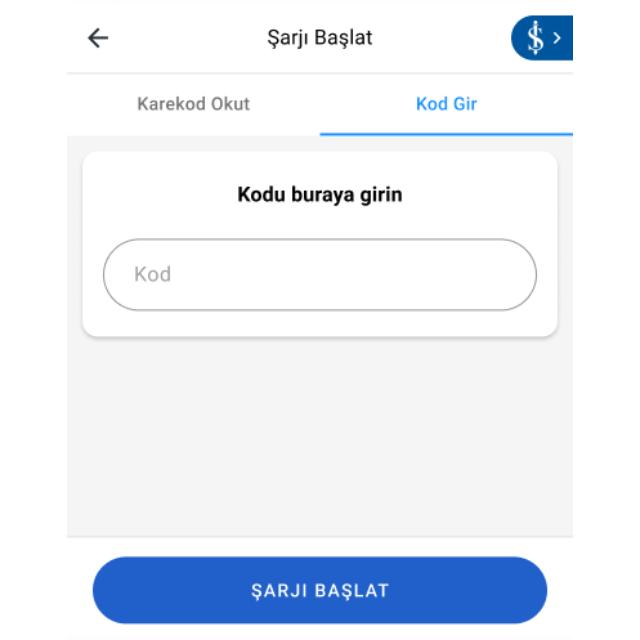QLabel: (232, 184, 404, 206), (248, 581, 392, 601), (264, 26, 376, 49), (131, 95, 253, 113), (412, 95, 480, 114)
VAppBar: (67, 1, 573, 74)
VBtn: (90, 557, 550, 625)
VCard: (82, 150, 558, 338)
VFooter: (67, 536, 573, 640)
VIcon: (82, 24, 115, 52)
VImg: (512, 15, 572, 61)
VTabs: (67, 74, 573, 356)
VTextField: (102, 238, 538, 310)
